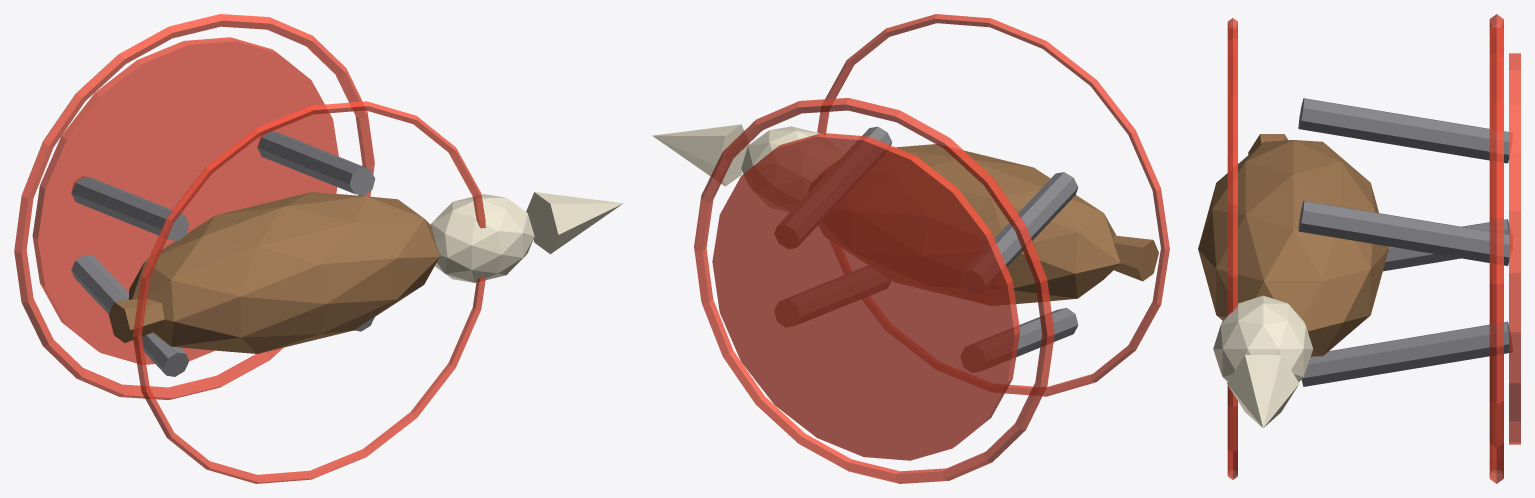
Rendered from quadruped_idle_pose.glb.
The picture shows the model from 3 angles, left to right: view 1: azimuth 30°, elevation 25°; view 2: azimuth 150°, elevation 25°; view 3: azimuth 270°, elevation 25°; orthographic projection. The views are drawn at different scales.
Parts seen in each view (by area): view 1: marker_disc, body, marker_ring, pounce_arc, head, leg_3, leg_1, snout, leg_0, tail; view 2: marker_disc, body, marker_ring, pounce_arc, head, leg_1, leg_3, leg_0, snout, leg_2, tail; view 3: body, marker_ring, leg_1, leg_3, leg_2, head, marker_disc, pounce_arc, snout, leg_0.
Part boxes in pixels (x1,y1,x2,y2): marker_disc: [32, 37, 338, 364]; body: [128, 192, 439, 353]; marker_ring: [14, 14, 374, 399]; pounce_arc: [132, 101, 485, 483]; head: [431, 194, 534, 282]; leg_3: [258, 131, 375, 195]; leg_1: [71, 176, 188, 241]; snout: [526, 192, 623, 254]; leg_0: [71, 254, 188, 376]; tail: [108, 298, 164, 342]; marker_disc: [712, 133, 1020, 460]; body: [809, 144, 1120, 305]; marker_ring: [694, 98, 1054, 483]; pounce_arc: [817, 14, 1169, 396]; head: [741, 126, 842, 211]; leg_1: [961, 172, 1078, 293]; leg_3: [775, 126, 891, 248]; leg_0: [961, 308, 1078, 372]; snout: [652, 124, 749, 186]; leg_2: [775, 266, 890, 326]; tail: [1113, 235, 1158, 281]; body: [1198, 140, 1388, 356]; marker_ring: [1489, 14, 1503, 483]; leg_1: [1298, 98, 1512, 163]; leg_3: [1298, 200, 1512, 265]; leg_2: [1301, 321, 1512, 386]; head: [1213, 295, 1312, 381]; marker_disc: [1509, 53, 1520, 444]; pounce_arc: [1227, 18, 1237, 479]; snout: [1227, 355, 1299, 427]; leg_0: [1383, 219, 1512, 271].
Size of the model in its own units: 2.17 by 1.54 by 1.07.
